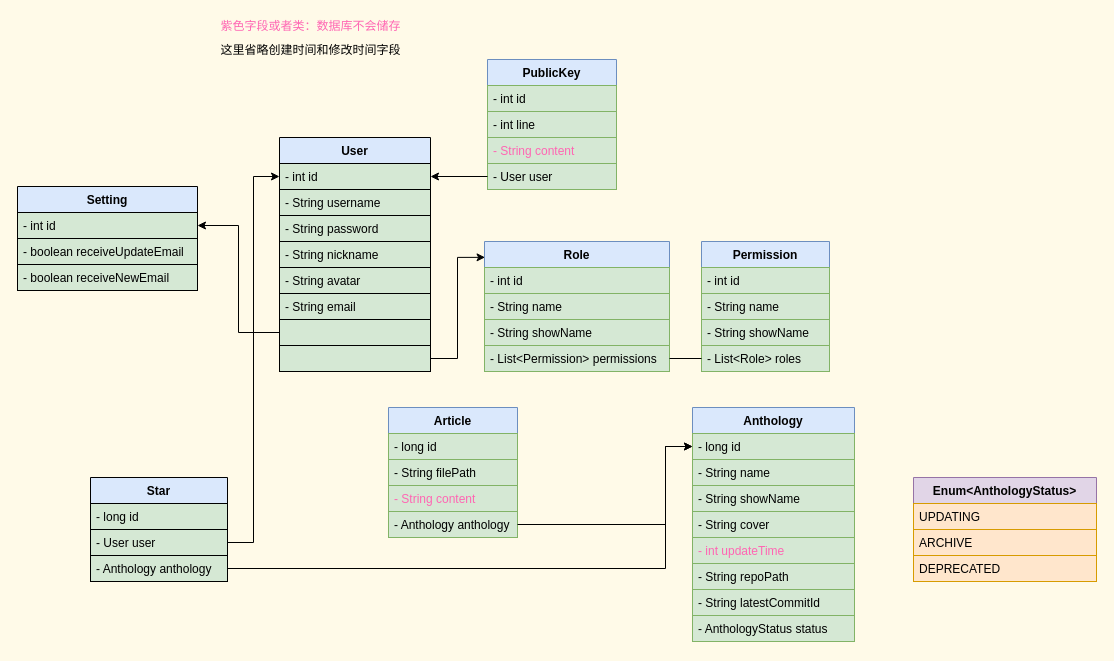
The diagram is 1114 pixels wide and 661 high, and some of its shapes have lost their labels. The shapes that lost their labels are listed below. From the top down, each one's centre as x and y in pixels, then its label:
At (354,332): "- Setting setting".
At (354,358): "- Role role".
